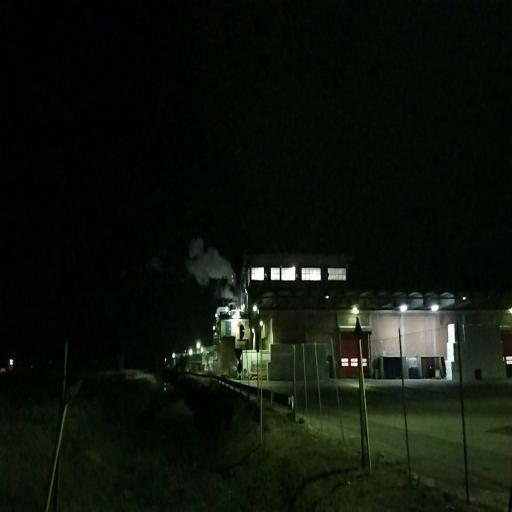leakage: (178, 232, 246, 311)
